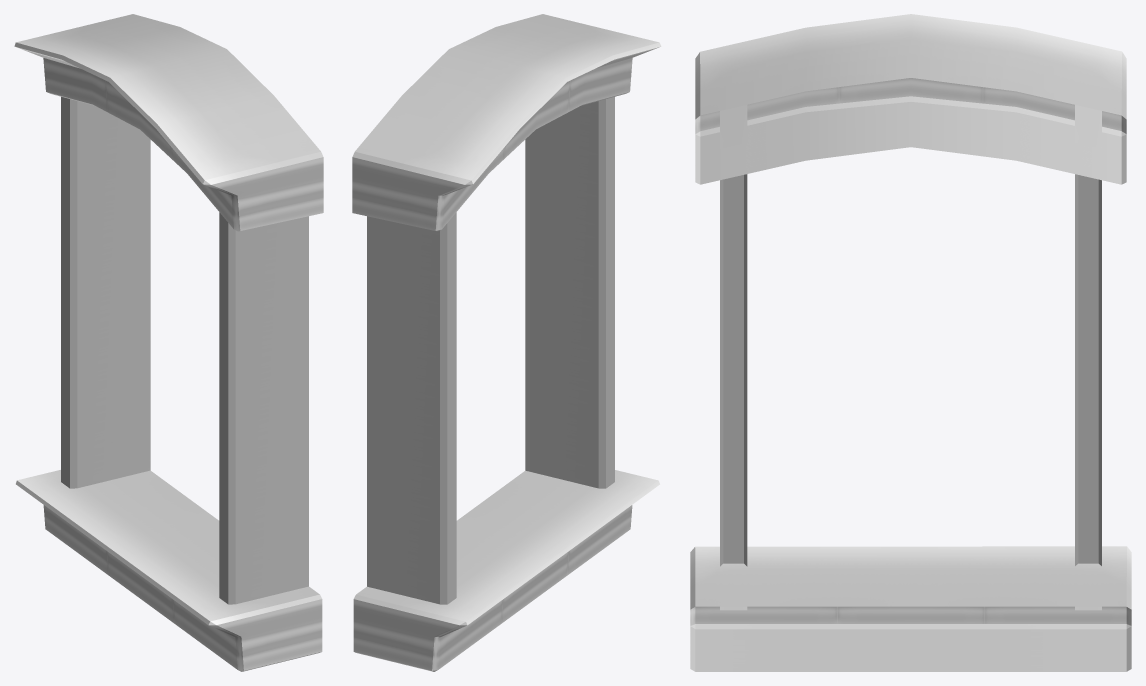
File: Window_b.fbx
The picture shows the model from 3 angles, left to right: view 1: azimuth 30°, elevation 25°; view 2: azimuth 150°, elevation 25°; view 3: azimuth 270°, elevation 25°; orthographic projection. The views are drawn at different scales.
Visible parts, largest first — view 1: polySurface12; view 2: polySurface12; view 3: polySurface12.
Part boxes in pixels (x1,y1,x2,y2): polySurface12: (14, 14, 323, 671); polySurface12: (352, 14, 661, 671); polySurface12: (690, 14, 1131, 671).
Size of the model in its own units: 0.9832 by 4.22 by 2.83.
